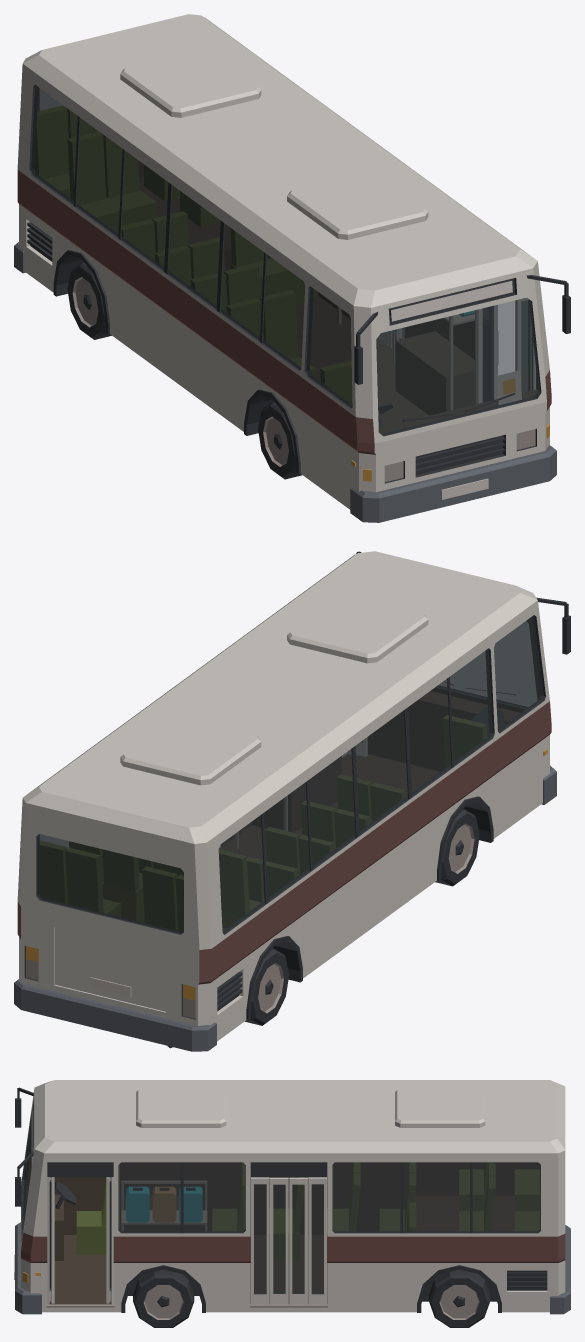
Rendered from campus-shuttle-bus-27dcaa.glb.
The picture shows the model from 3 angles, top to bottom: view 1: azimuth 30°, elevation 25°; view 2: azimuth 150°, elevation 25°; view 3: azimuth 270°, elevation 25°; orthographic projection. The views are drawn at different scales.
Visible parts, largest first — view 1: body, glass, tyre-rr, tyre-fr; view 2: body, glass, tyre-fr, tyre-rr; view 3: body, glass, tyre-rl, tyre-fl, suitcases.
Part boxes in pixels (x1=…): body: x1=14, y1=14, x2=570, y2=522; glass: x1=31, y1=85, x2=540, y2=435; tyre-rr: x1=67, y1=262, x2=111, y2=339; tyre-fr: x1=258, y1=402, x2=302, y2=479; body: x1=14, y1=551, x2=570, y2=1051; glass: x1=37, y1=615, x2=543, y2=933; tyre-fr: x1=435, y1=809, x2=479, y2=886; tyre-rr: x1=245, y1=948, x2=289, y2=1025; body: x1=14, y1=1080, x2=570, y2=1314; glass: x1=23, y1=1124, x2=540, y2=1293; tyre-rl: x1=429, y1=1269, x2=490, y2=1327; tyre-fl: x1=133, y1=1269, x2=194, y2=1327; suitcases: x1=126, y1=1187, x2=202, y2=1222.
Bounding box in the file's own units: 2.74 × 3 × 8.
